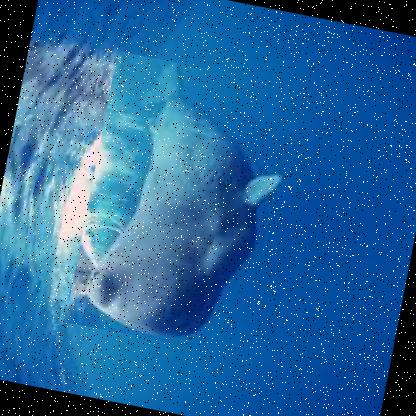sperm_whale: (64, 51, 322, 362)
